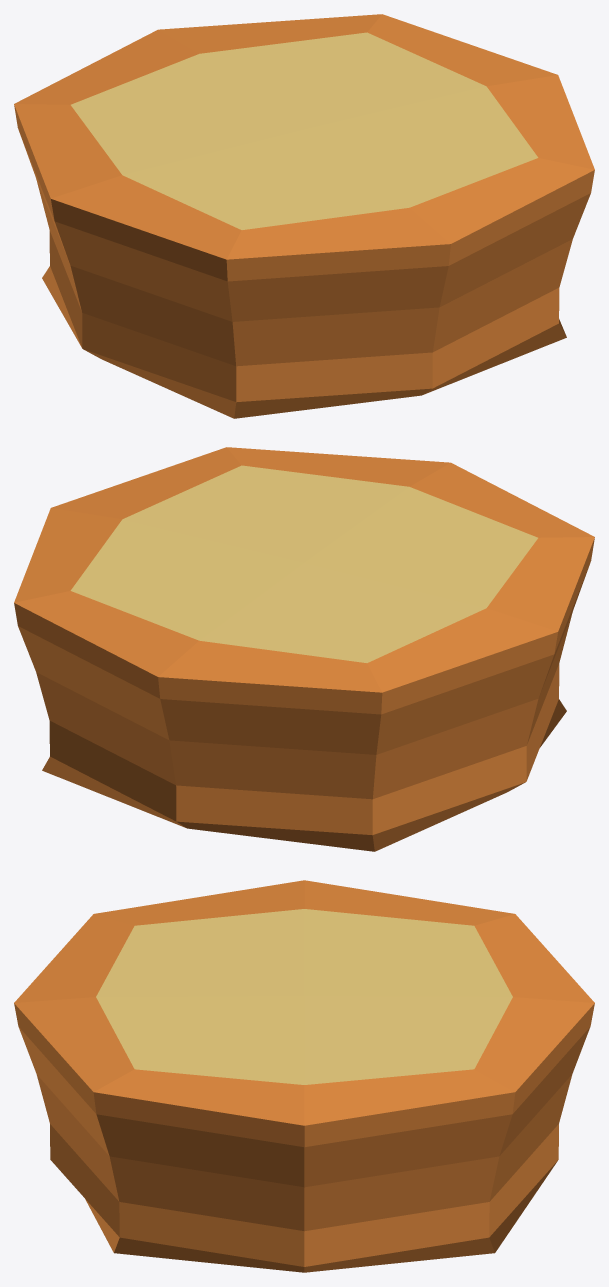
File: felled tree1 1.fbx
3 renders of one model, top to bottom at view 1: azimuth 30°, elevation 25°; view 2: azimuth 150°, elevation 25°; view 3: azimuth 270°, elevation 25°, orthographic.
Parts seen in each view (by area): view 1: felled tree 1; view 2: felled tree 1; view 3: felled tree 1.
Part boxes in pixels (left/top/right/bottom): felled tree 1: left=14, top=14, right=594, bottom=418; felled tree 1: left=14, top=447, right=594, bottom=851; felled tree 1: left=14, top=880, right=594, bottom=1272.
Size of the model in its own units: 96.31 by 33.42 by 96.31.
